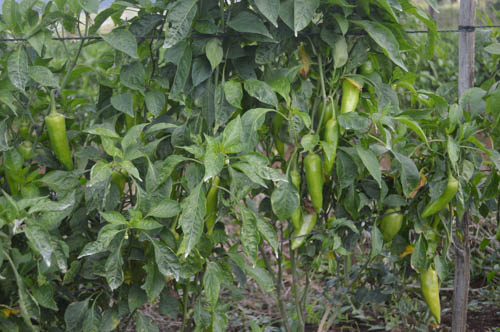ChiliPepper: (45, 114, 76, 170), (418, 265, 444, 322), (305, 155, 328, 211), (424, 180, 456, 220), (339, 78, 360, 121), (320, 121, 340, 163), (380, 209, 401, 241)
